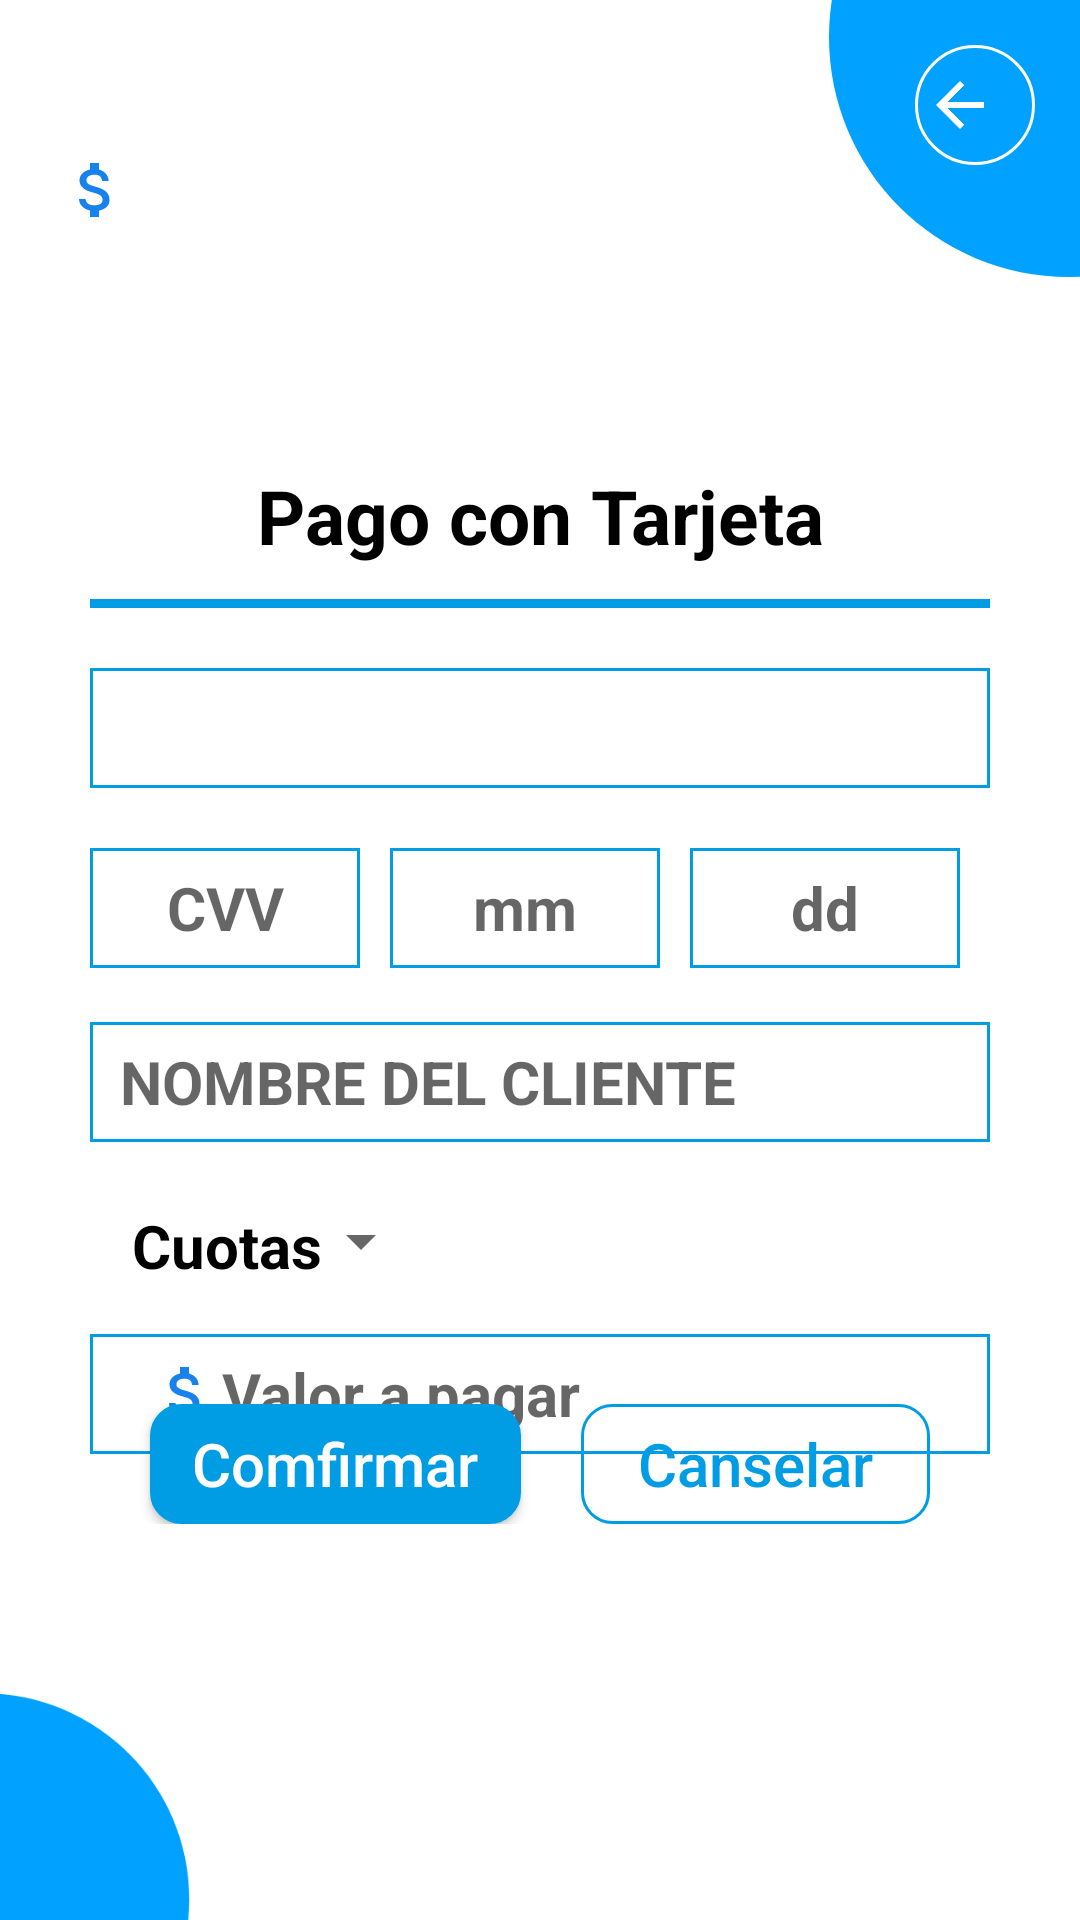

Icons on this 1080x1920 Android screen, each with the point to tap as [x,y]:
back: [975,105]
